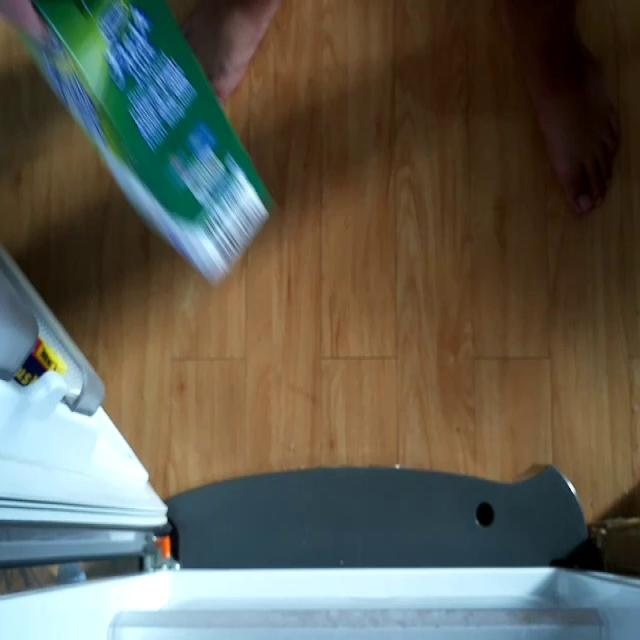milk: (3, 2, 278, 285)
